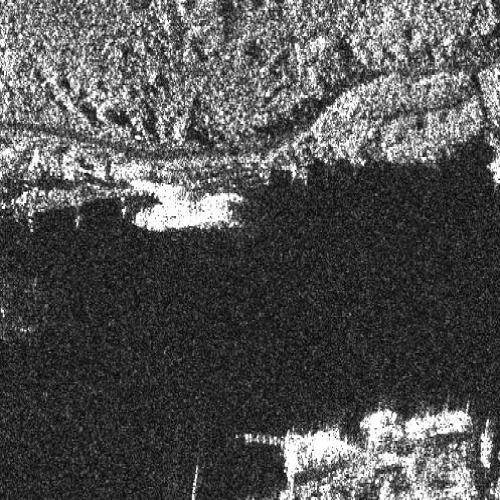ship: (128, 189, 240, 235), (359, 409, 399, 432)
